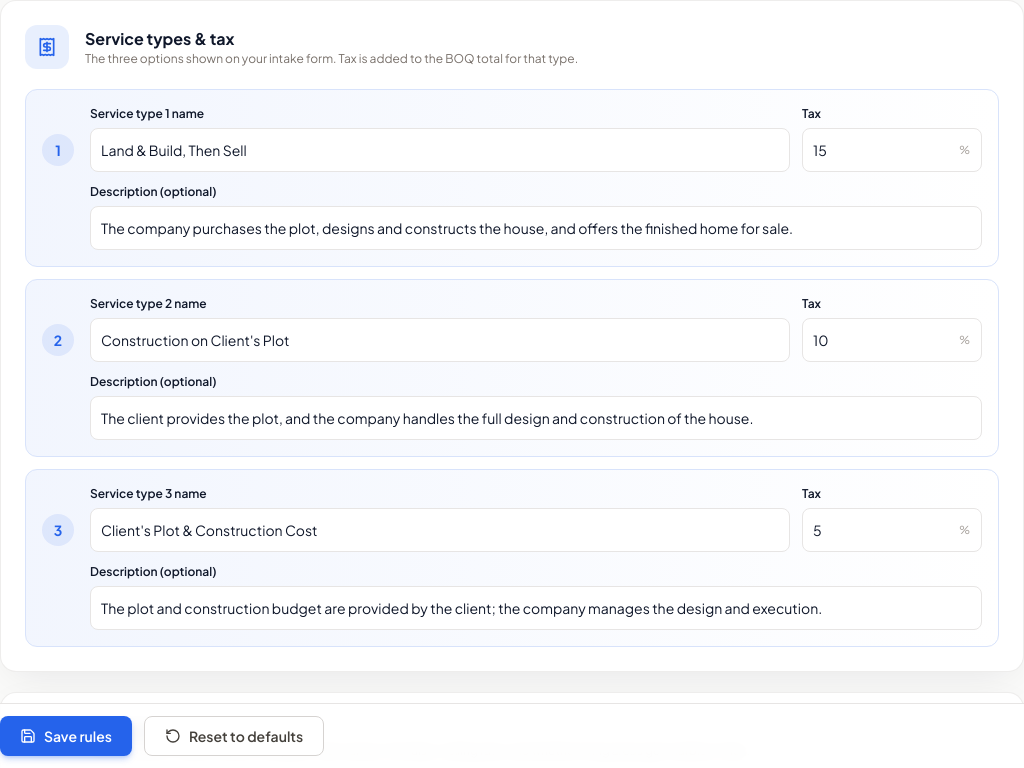
Scenario: RulesForm › cancelling the reset dialog does nothing
The image size is (1024, 768).
Click the button "Reset to defaults".
click(234, 736)  # box [144,716,324,756]
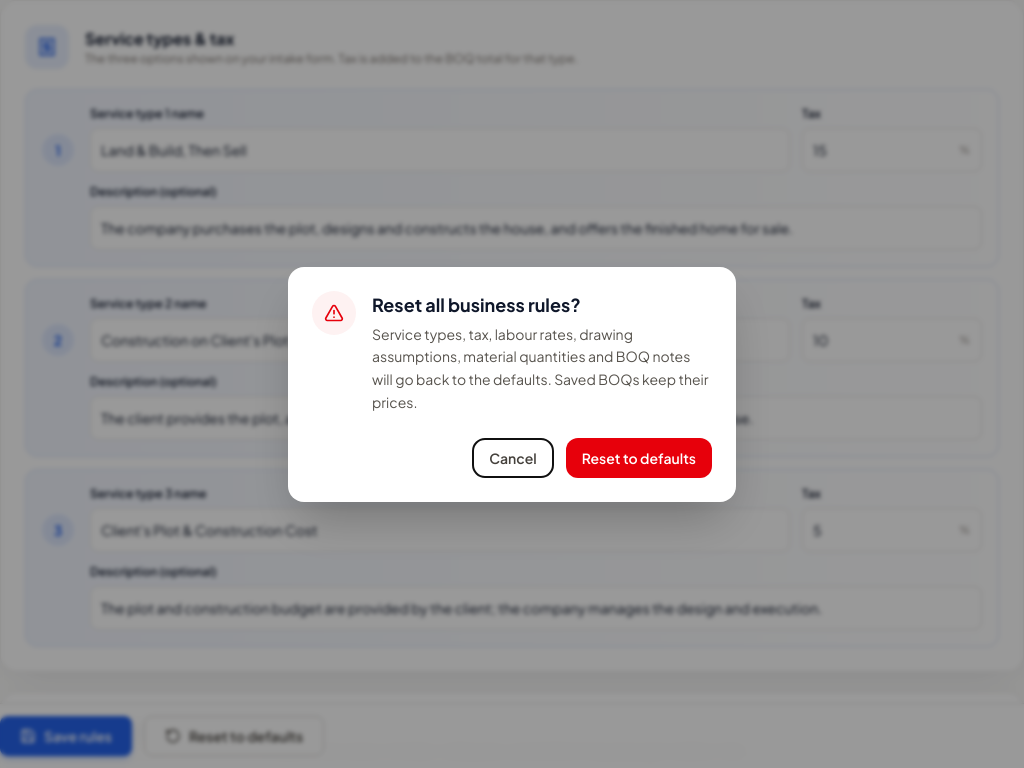
Click the button "Cancel".
click(513, 458)  # box [472,438,554,478]
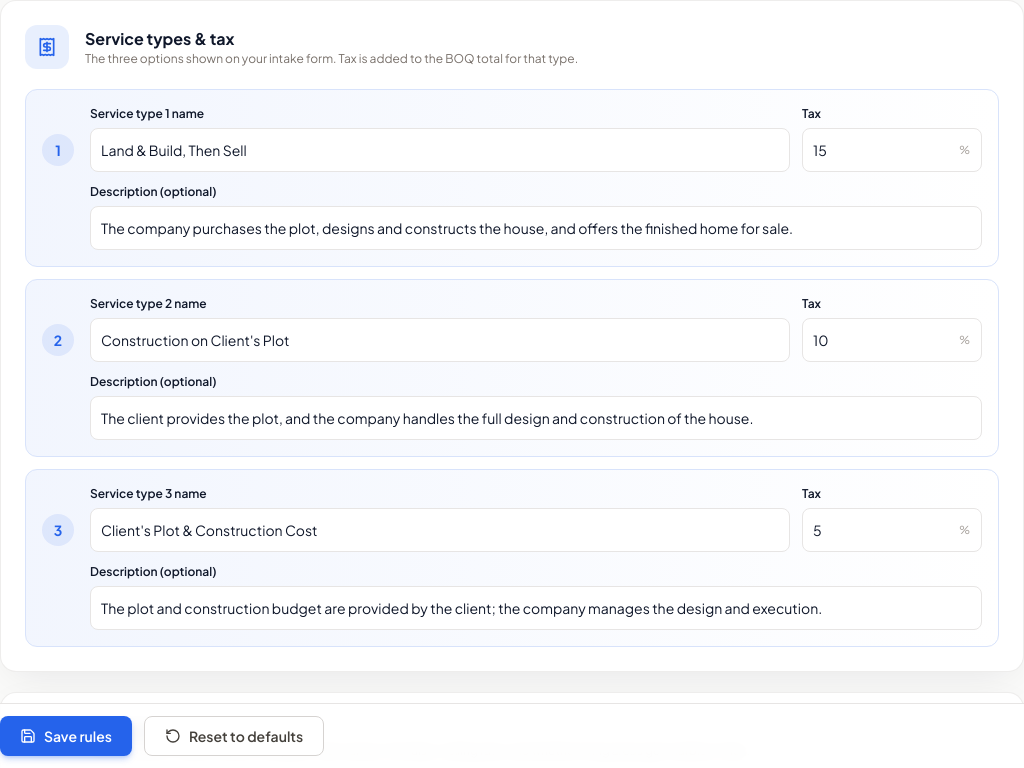
Now the dialog is gone
